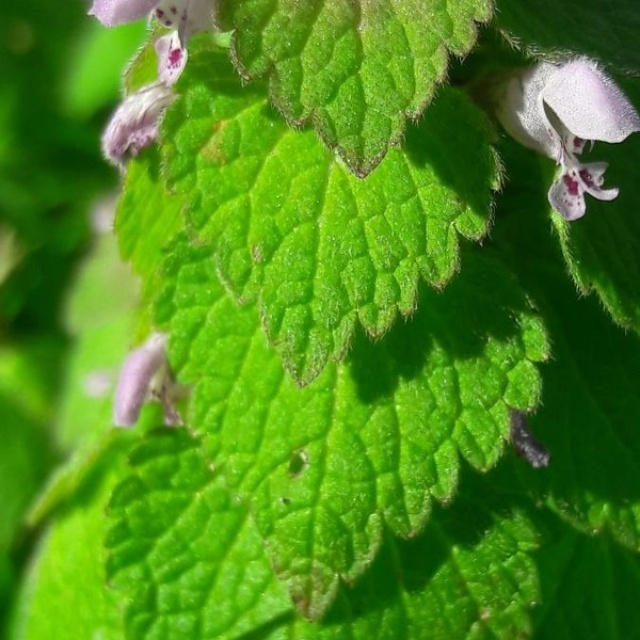obstacle: (116, 51, 541, 611)
